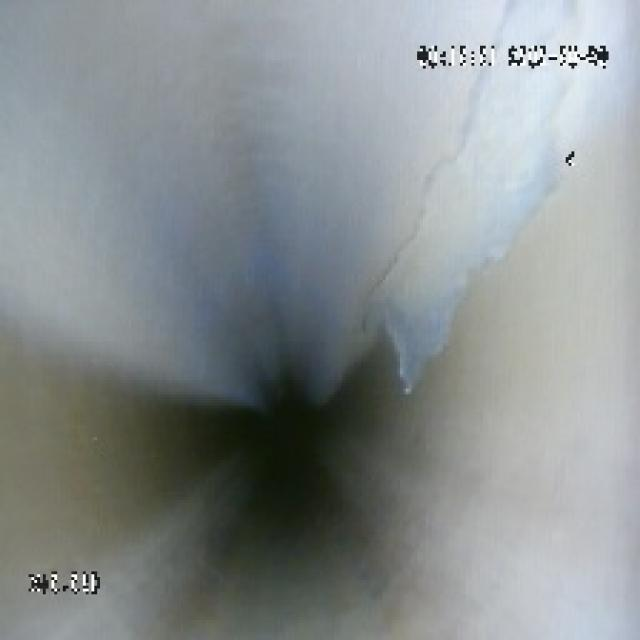pipe_surface_damage: (366, 100, 546, 391)
